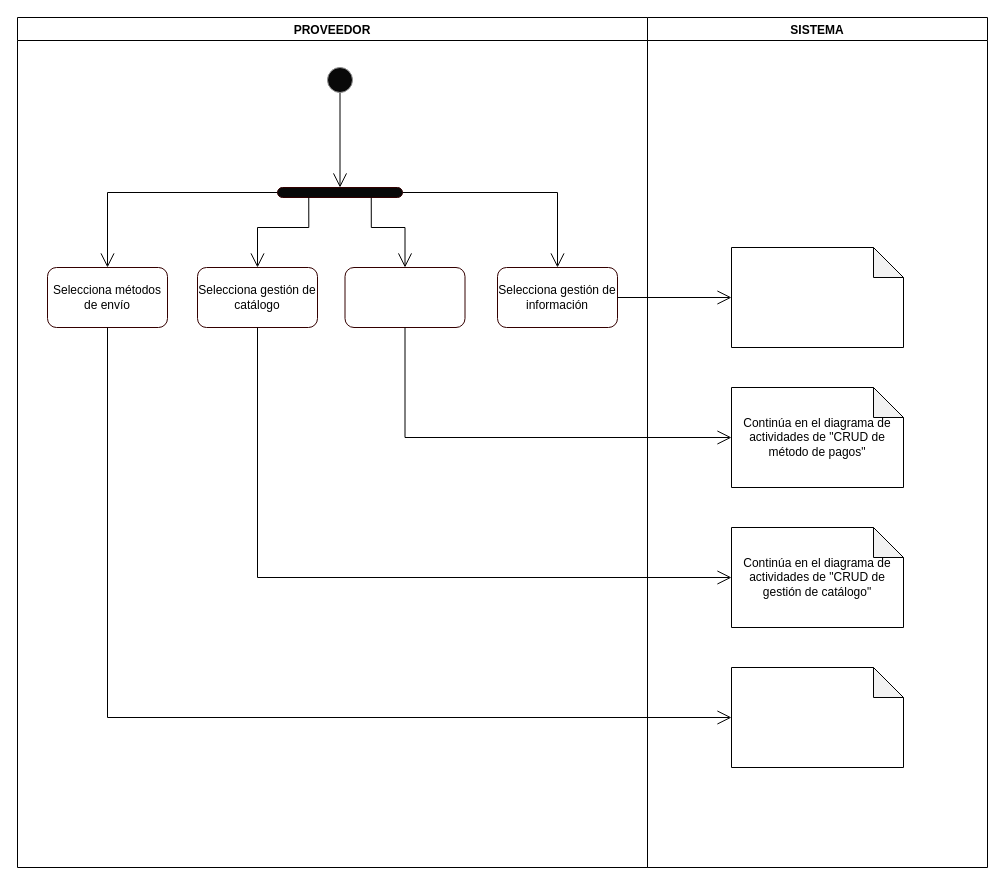
This 1005x885 diagram has some shape labels left out. Here are the shapes that lost their labels. From the top down, the centre of each, then its label:
(404,297): Selecciona método de pagos
(817,297): Continúa en el diagrama de actividades de "gestión de información"
(817,717): Continúa en el diagrama de actividades de "CRUD de método de envío"
